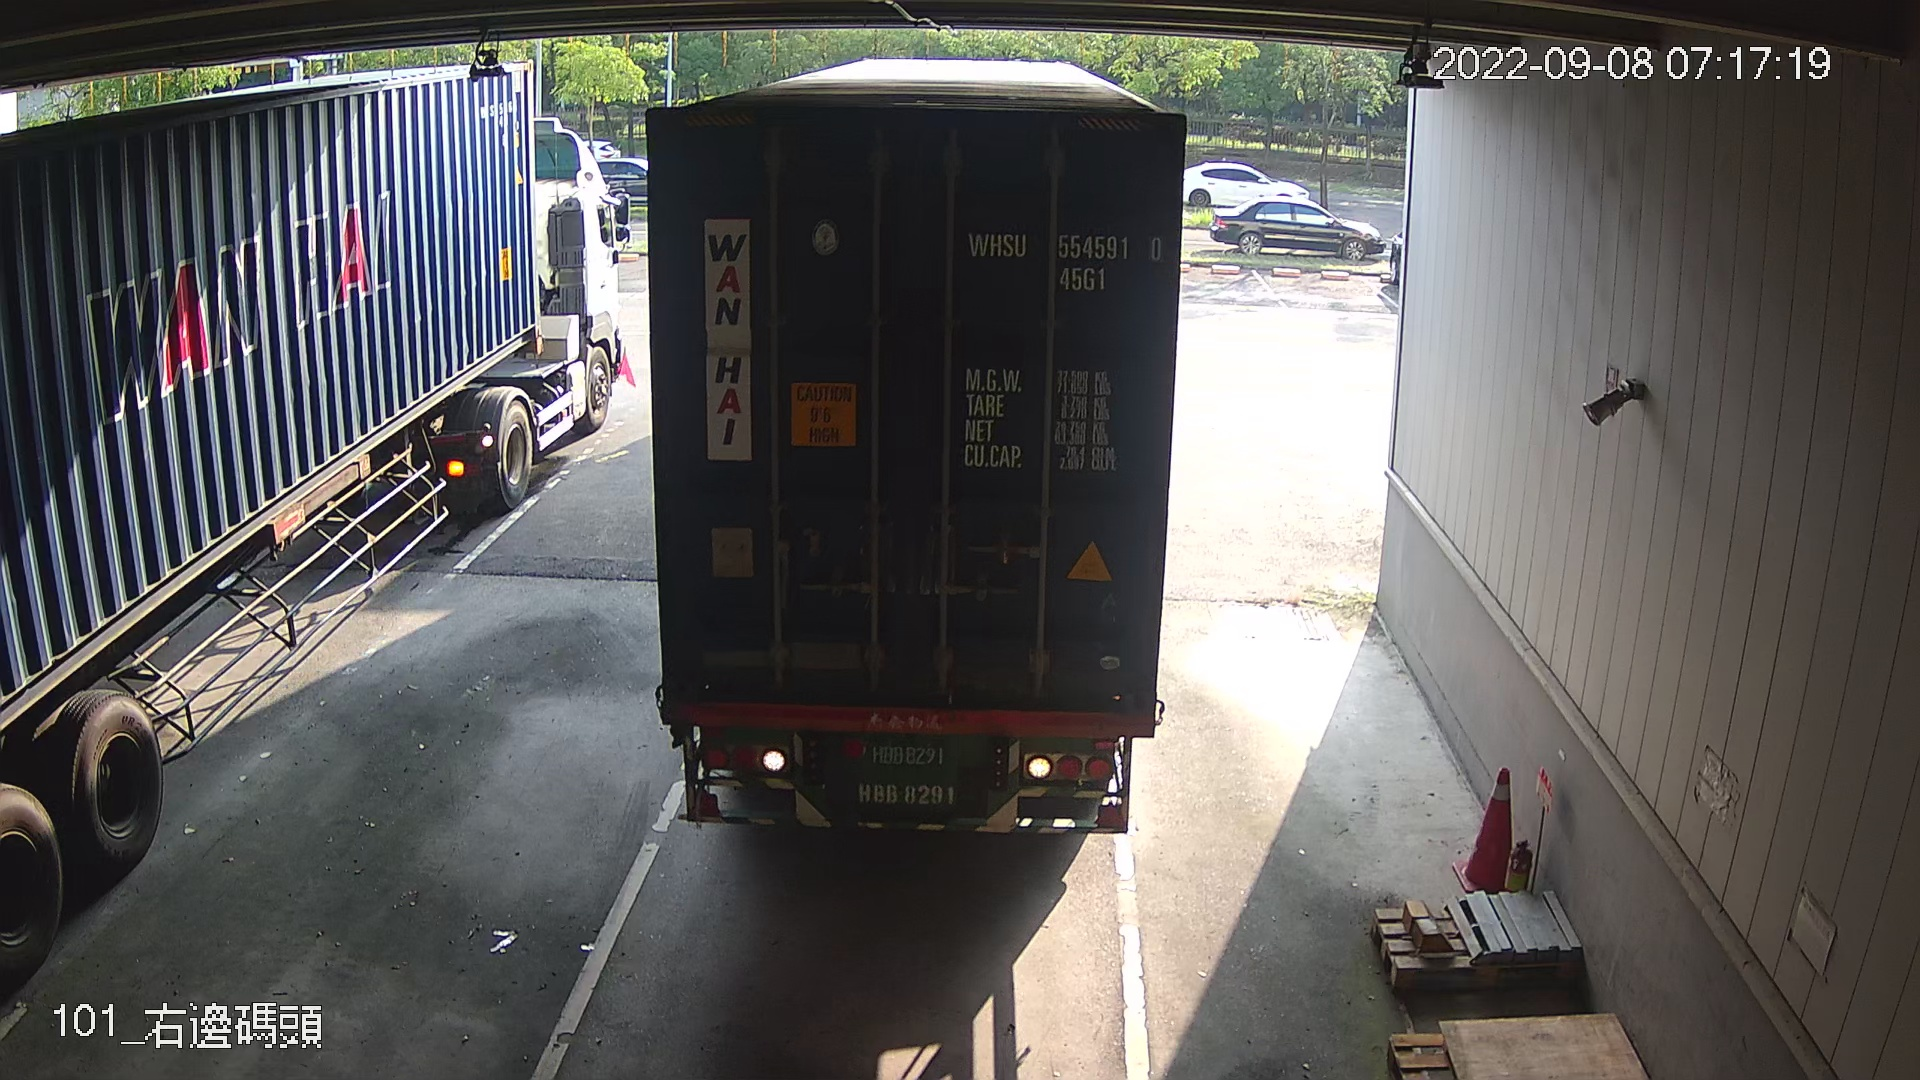container: (959, 216, 1168, 301)
